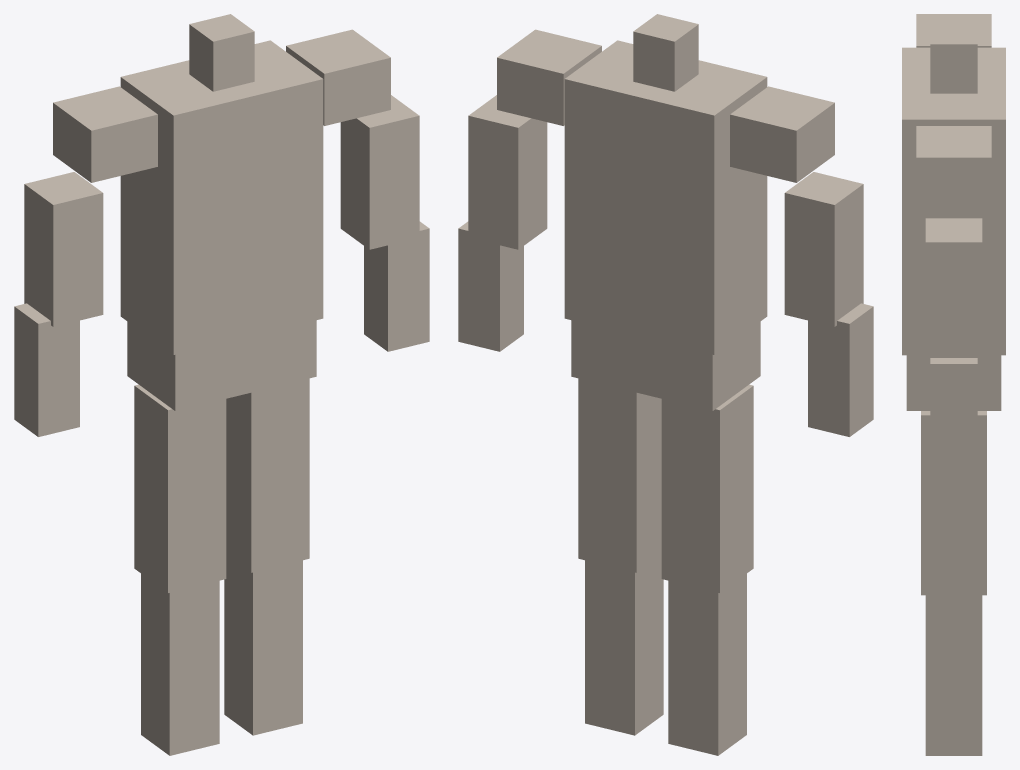
File: placeholder.glb
3 renders of one model, left to right at view 1: azimuth 30°, elevation 25°; view 2: azimuth 150°, elevation 25°; view 3: azimuth 270°, elevation 25°, orthographic.
Bounding box in the file's own units: 0.94 × 1.61 × 0.22.
